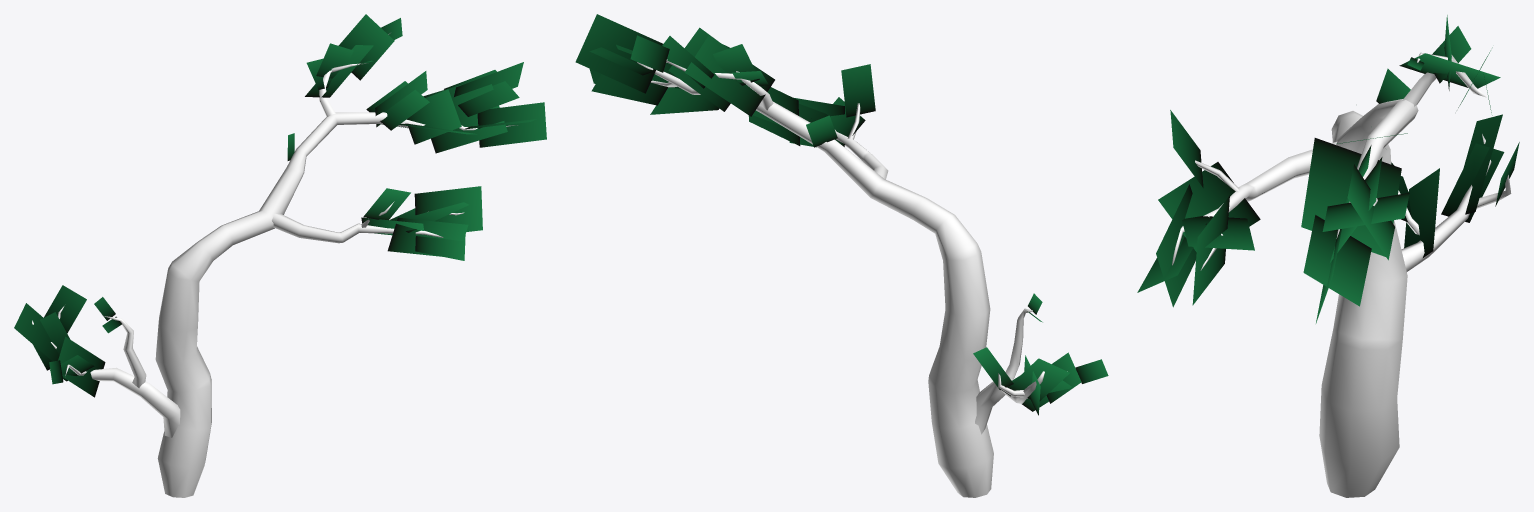
Rendered from SM_TreeWindswept01.fbx.
The picture shows the model from 3 angles, left to right: view 1: azimuth 30°, elevation 25°; view 2: azimuth 150°, elevation 25°; view 3: azimuth 270°, elevation 25°; orthographic projection. The views are drawn at different scales.
Visible parts, largest first — view 1: SM_TreeWindswept01_LOD0; view 2: SM_TreeWindswept01_LOD0; view 3: SM_TreeWindswept01_LOD0.
Part boxes in pixels (x1,y1,x2,y2): SM_TreeWindswept01_LOD0: (14,14,546,497); SM_TreeWindswept01_LOD0: (575,14,1108,497); SM_TreeWindswept01_LOD0: (1137,15,1519,497).
Bounding box in the file's own units: 1077 × 827 × 459.
